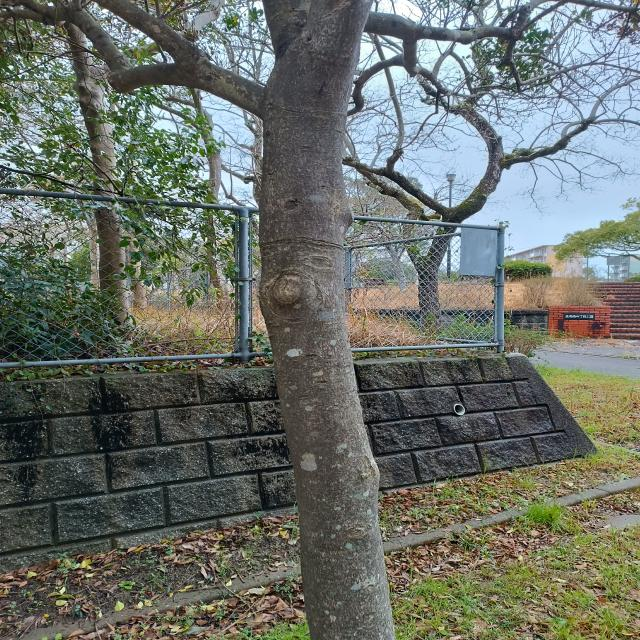Branch: (15, 0, 180, 96), (362, 0, 553, 45), (176, 48, 266, 119)
Twig: (346, 39, 417, 116), (412, 67, 470, 98), (1, 9, 67, 29)
